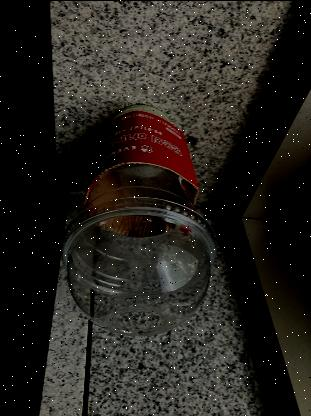Others: (62, 109, 220, 341), (58, 196, 218, 336)
